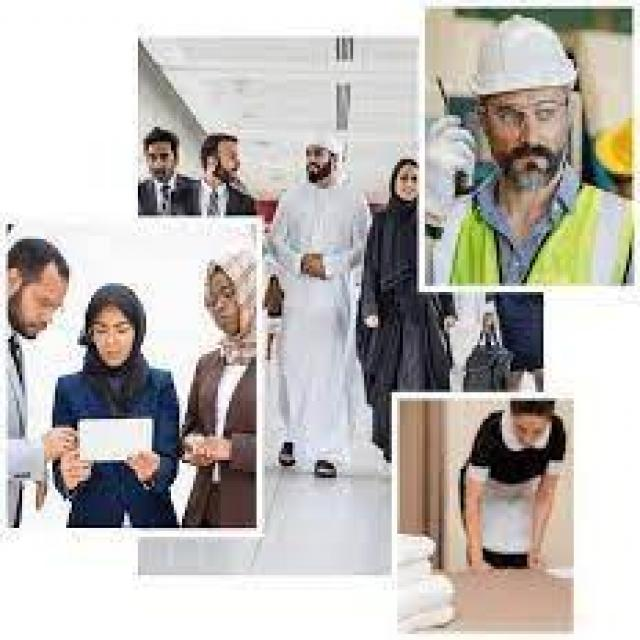Reflective-Jacket: (441, 177, 640, 304)
Safety-Helmet: (461, 15, 585, 103)
